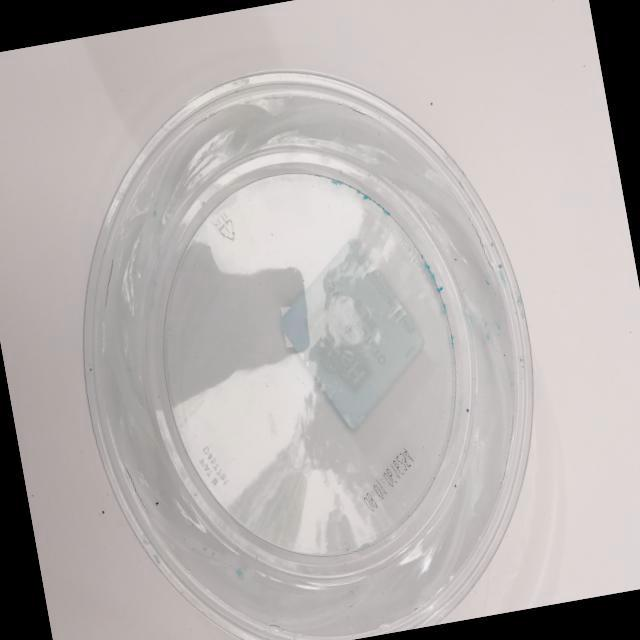plastic: (9, 28, 580, 640)
